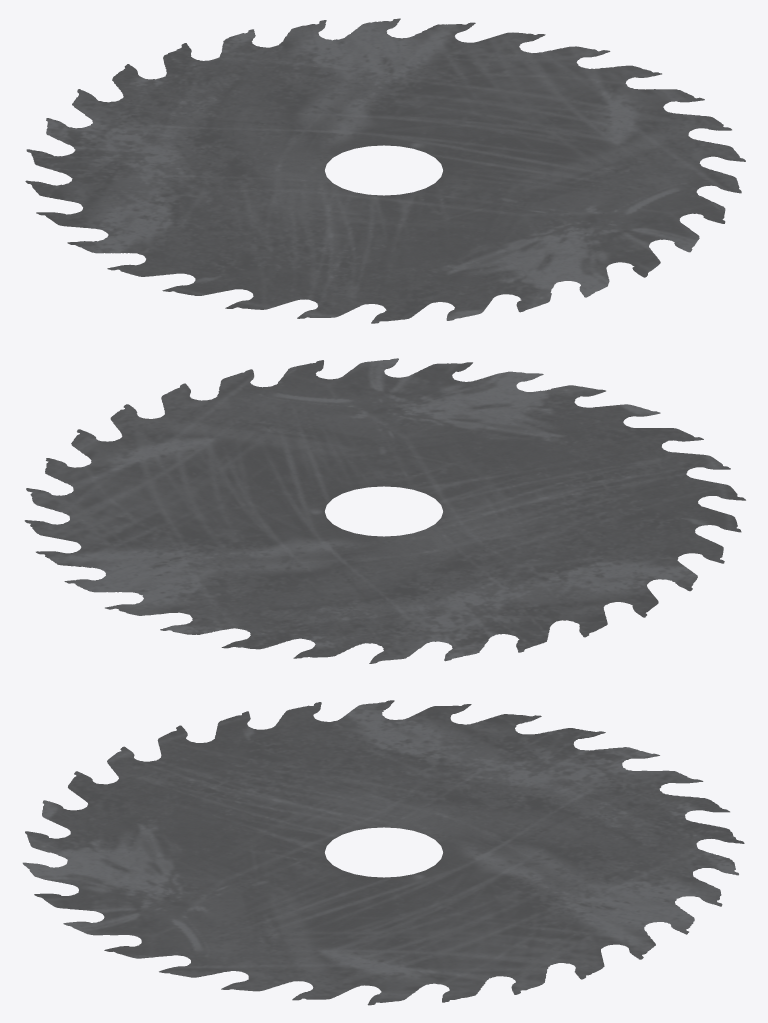
The model's file is Saw.fbx.
3 views of the same model, one above another, from view 1: azimuth 30°, elevation 25°; view 2: azimuth 150°, elevation 25°; view 3: azimuth 270°, elevation 25° (orthographic).
Parts seen in each view (by area): view 1: SAW; view 2: SAW; view 3: SAW.
Part boxes in pixels (x1,y1,x2,y2): SAW: (25,18,745,323); SAW: (24,358,745,663); SAW: (22,700,744,1005).
Size of the model in its own units: 15.46 by 2.38e-07 by 15.46.
Materials: 1 (1 with a texture image).
